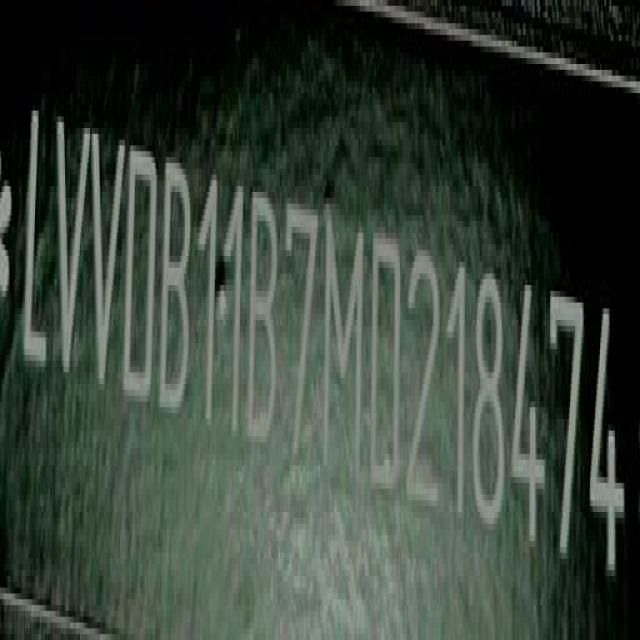1: (446, 257, 471, 517), (223, 175, 246, 438), (198, 155, 219, 418)
2: (407, 248, 440, 506)
4: (585, 302, 625, 584), (512, 280, 547, 545)
7: (549, 274, 585, 566), (285, 190, 319, 457)
8: (473, 274, 508, 530)
B: (156, 155, 194, 414), (250, 185, 278, 448)
D: (370, 218, 405, 498), (124, 133, 157, 410)
L: (19, 99, 51, 388)
M: (324, 207, 364, 478)
V: (50, 95, 91, 396), (91, 106, 126, 420)
